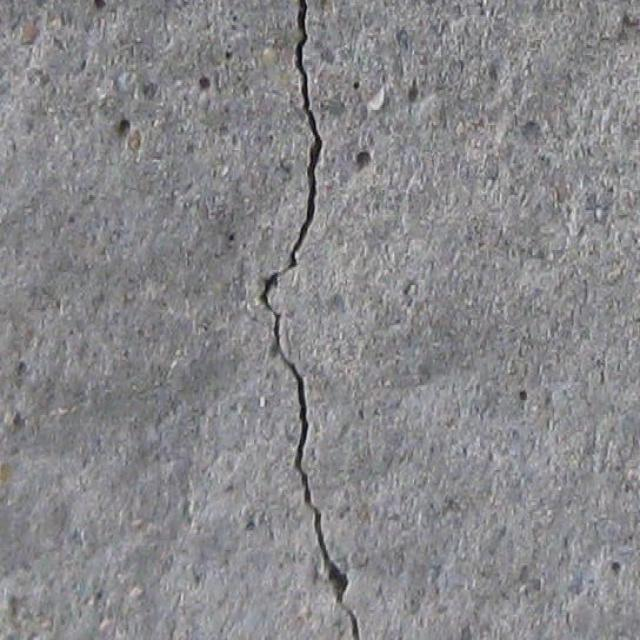crack: (261, 2, 363, 637)
